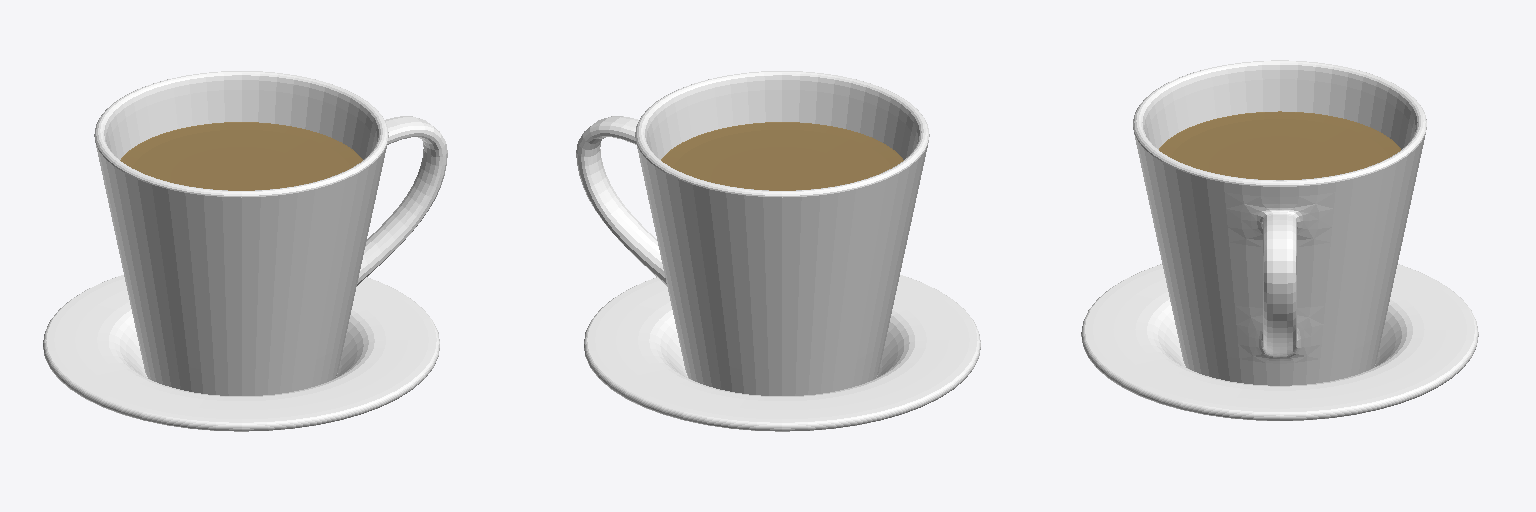
File: cafe.obj
The picture shows the model from 3 angles: view 1: azimuth 30°, elevation 25°; view 2: azimuth 150°, elevation 25°; view 3: azimuth 270°, elevation 25°; orthographic projection.
Parts seen in each view (by area): view 1: coffe_cup.2, plate, coffee; view 2: coffe_cup.2, plate, coffee; view 3: coffe_cup.2, plate, coffee.
Part boxes in pixels (bbox=[...]): coffe_cup.2: bbox=[94, 71, 447, 395]; plate: bbox=[43, 275, 439, 431]; coffee: bbox=[120, 122, 362, 190]; coffe_cup.2: bbox=[576, 71, 929, 395]; plate: bbox=[584, 275, 980, 431]; coffee: bbox=[661, 122, 903, 190]; coffe_cup.2: bbox=[1133, 60, 1426, 385]; plate: bbox=[1081, 264, 1478, 420]; coffee: bbox=[1159, 111, 1400, 179].
Bounding box in the file's own units: 12.62 × 8.28 × 11.64.